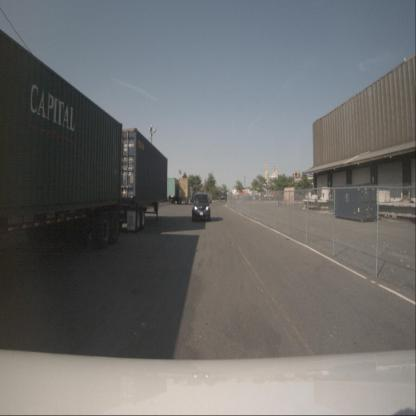vehicle-car: (192, 192, 211, 221), (219, 194, 228, 202)
